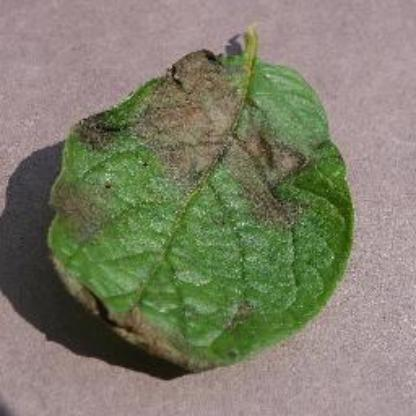Late-Blight: (37, 24, 359, 374)
